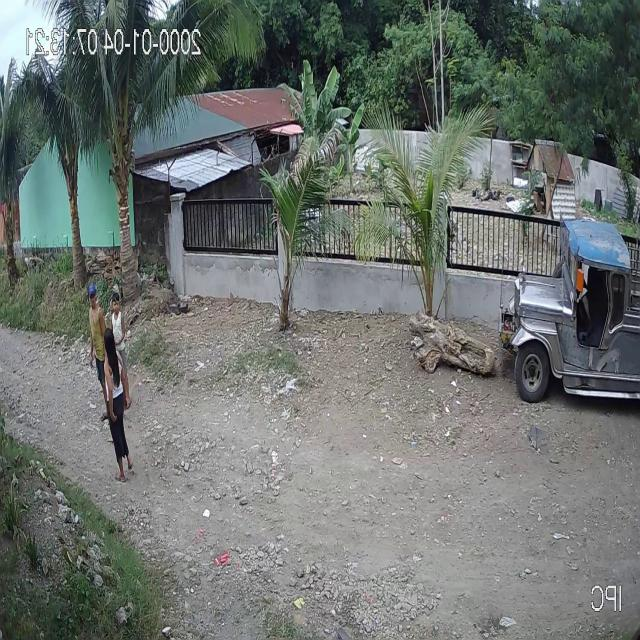standing: (86, 281, 120, 430), (110, 293, 132, 412)
walking: (103, 324, 135, 486)
